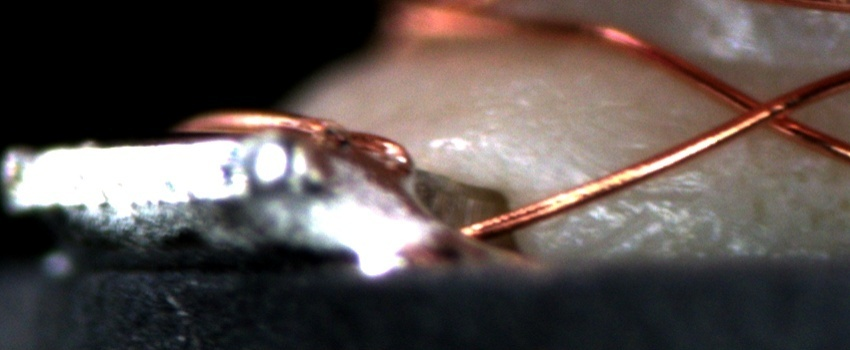CL: (712, 82, 811, 140)
DL: (575, 168, 711, 219)
TE: (170, 102, 420, 178)
